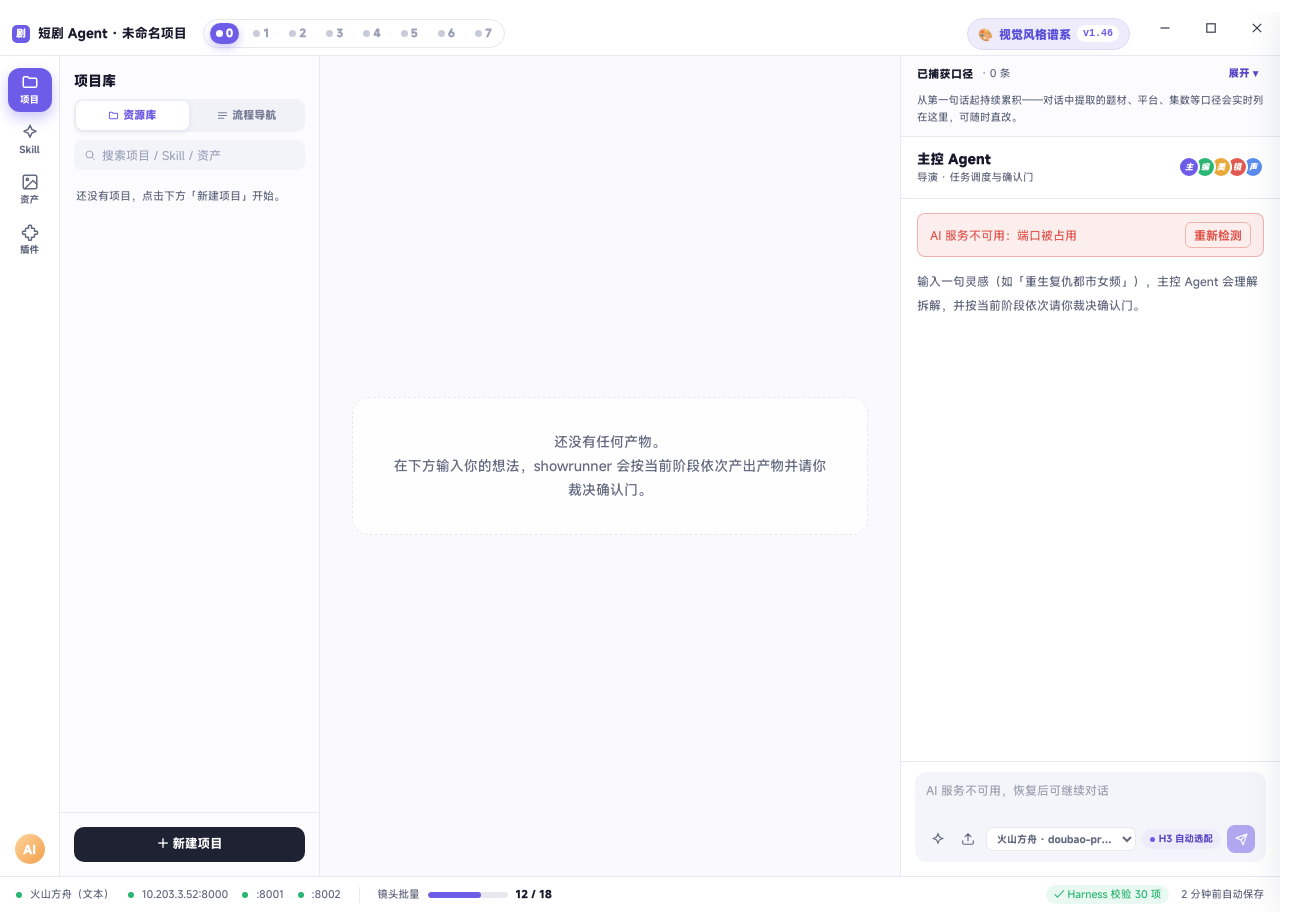
Test: feature-808 · 会话续聊（契约 §6.3） › D-013 · AI 服务不可用横幅 › 装载探测失败（status 非 running 且 start 失败）→ 横幅 + 输入禁用；重新检测恢复
The image size is (1292, 912).
Expected: the message with test id "chat-ai-down" shows "AI 服务不可用：端口被占用", [930,227,1077,243]
Expected: the text box with placeholder "AI 服务不可用，恢复后可继续对话" is disabled, [926,781,1255,815]
Click the button with test id "chat-ai-retry" at (1218, 235), box [1185,222,1251,248]
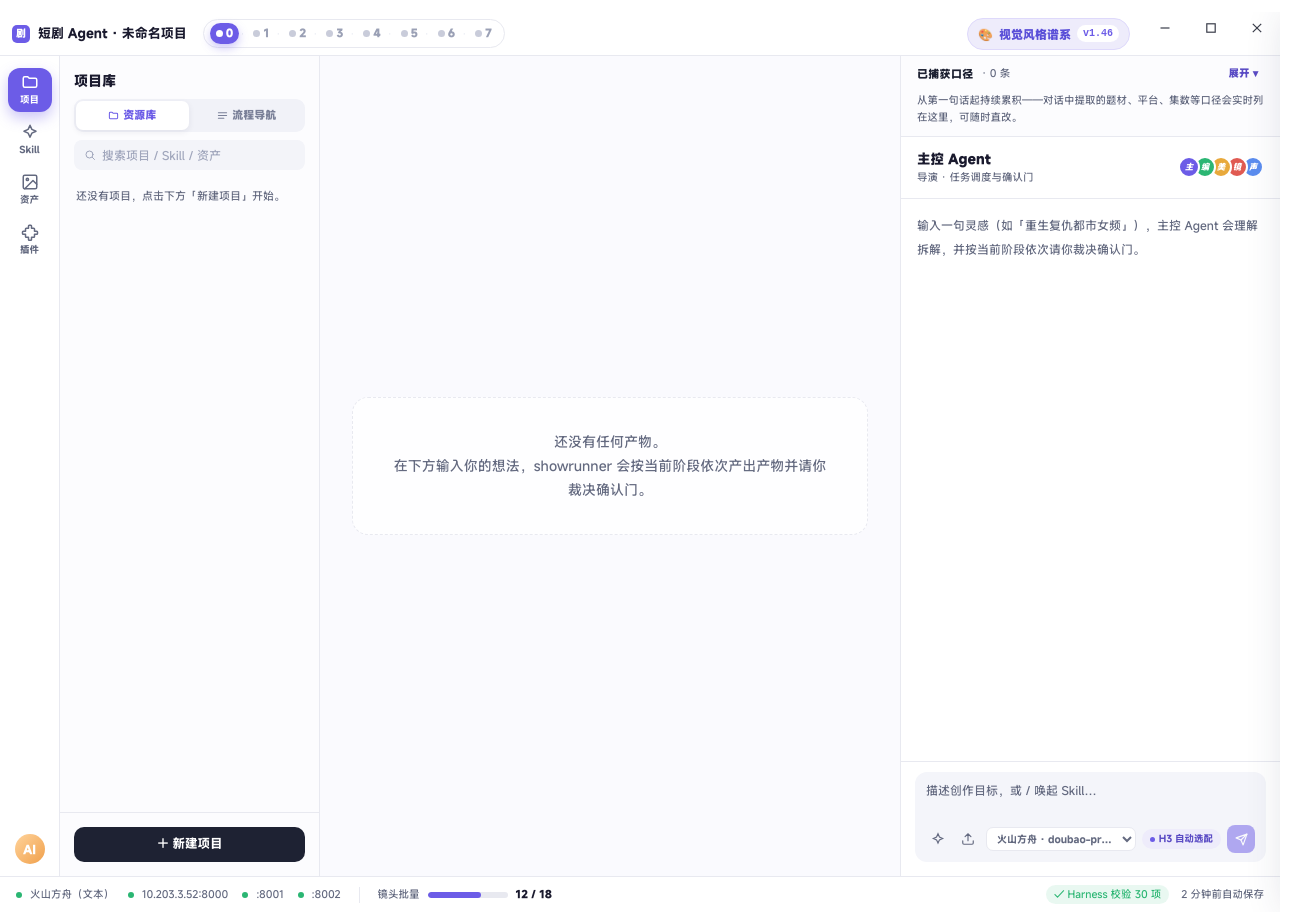
Expected: the message with test id "chat-ai-down" is gone
Expected: the text box with placeholder "描述创作目标，或 / 唤起 Skill…" is enabled, [926,781,1255,815]
